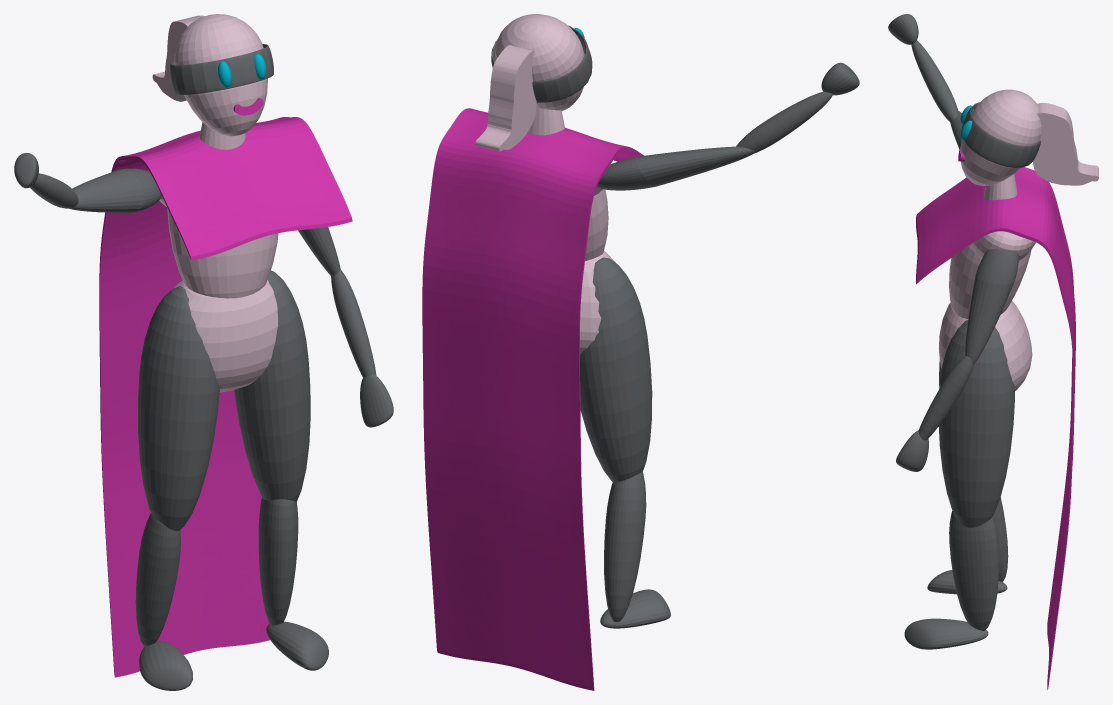
The model's file is TorieSuperHero.glb.
The picture shows the model from 3 angles, left to right: view 1: azimuth 30°, elevation 25°; view 2: azimuth 150°, elevation 25°; view 3: azimuth 270°, elevation 25°; orthographic projection. The views are drawn at different scales.
Visible parts, largest first — view 1: Mesh_Mesh_head_geo.001_lambert2SG.001; view 2: Mesh_Mesh_head_geo.001_lambert2SG.001; view 3: Mesh_Mesh_head_geo.001_lambert2SG.001.
Boxes of the visible parts, left/top/right/bottom form: Mesh_Mesh_head_geo.001_lambert2SG.001: left=14, top=14, right=393, bottom=690; Mesh_Mesh_head_geo.001_lambert2SG.001: left=422, top=14, right=859, bottom=690; Mesh_Mesh_head_geo.001_lambert2SG.001: left=888, top=14, right=1098, bottom=689.
Size of the model in its own units: 32.95 by 54.44 by 18.43.
